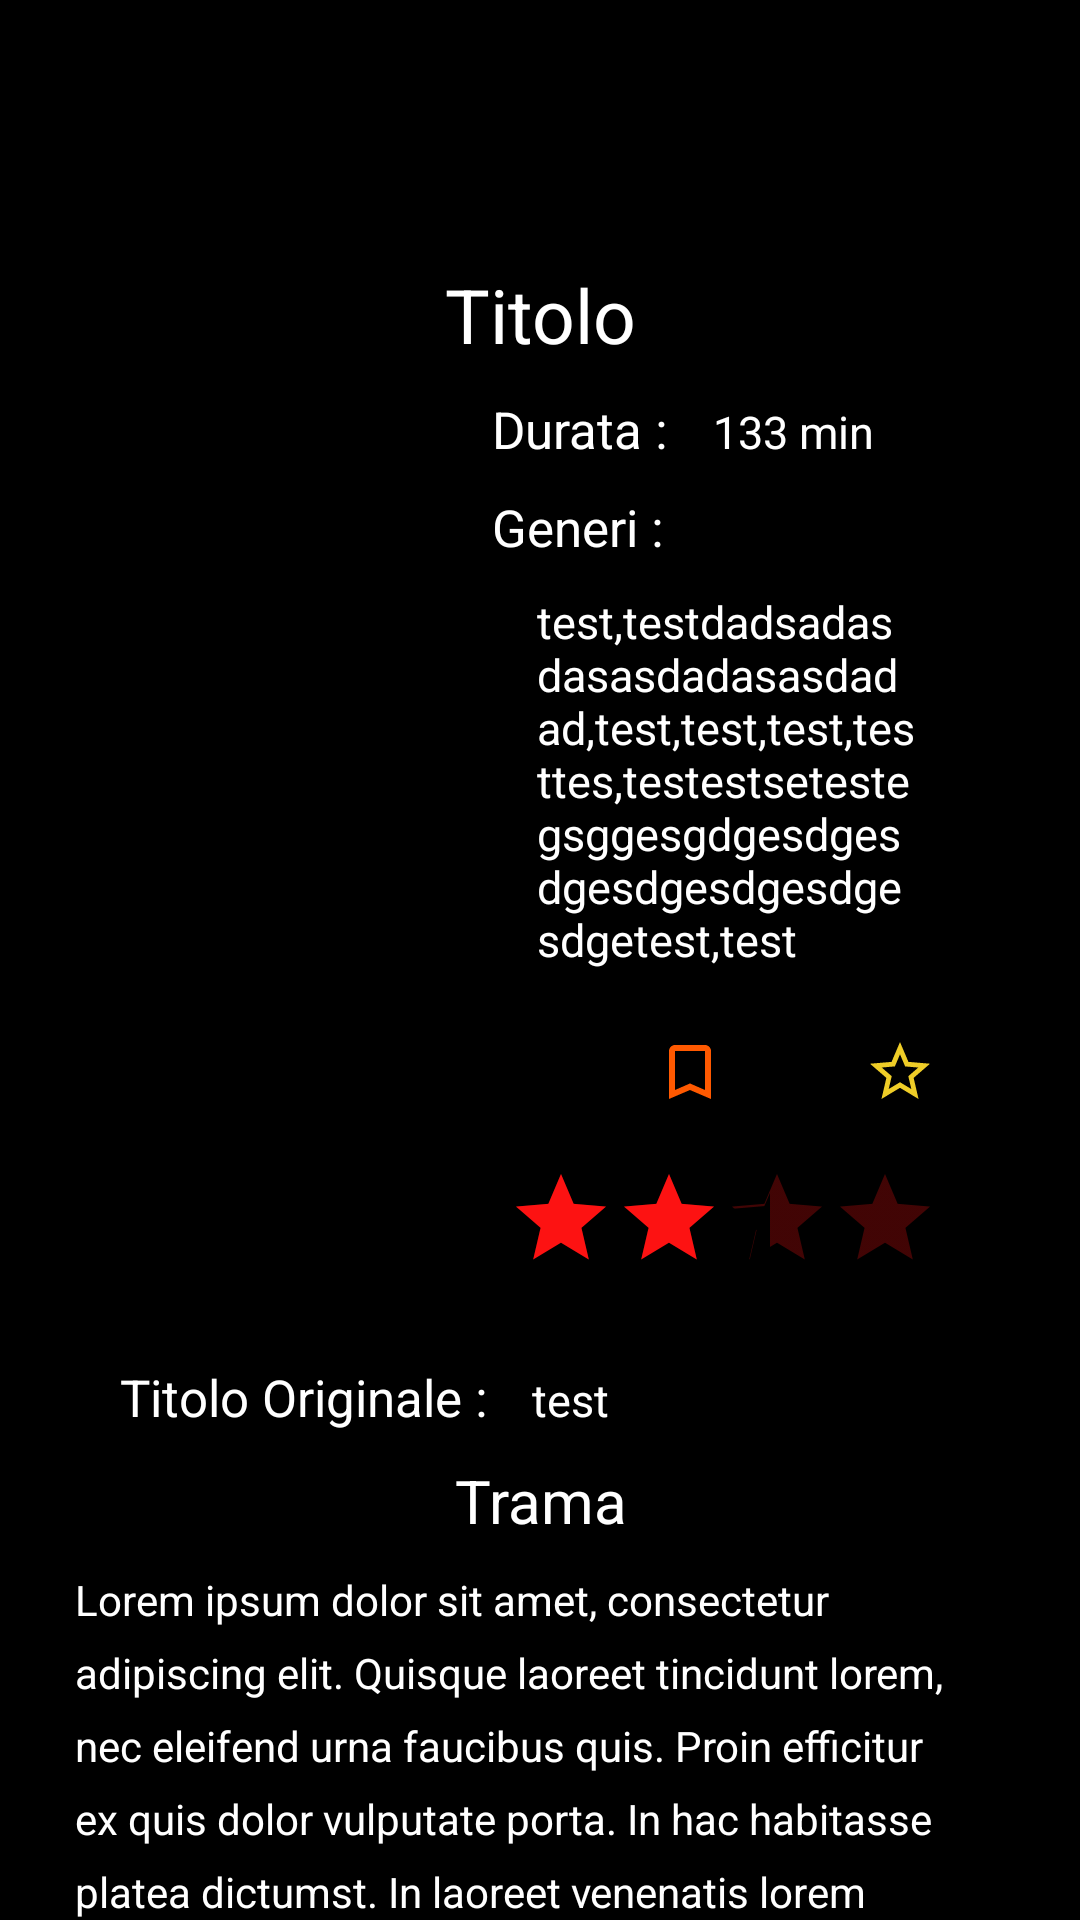

Icon click points for this 1080 x 1920 phone screenshot, format point (x, y):
favourite border: point (900, 1070)
saved border: point (690, 1072)
